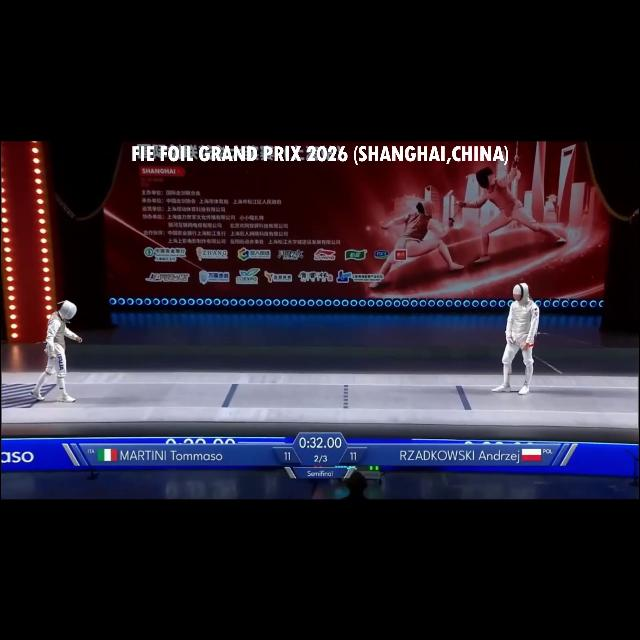blade: (508, 336, 566, 376)
